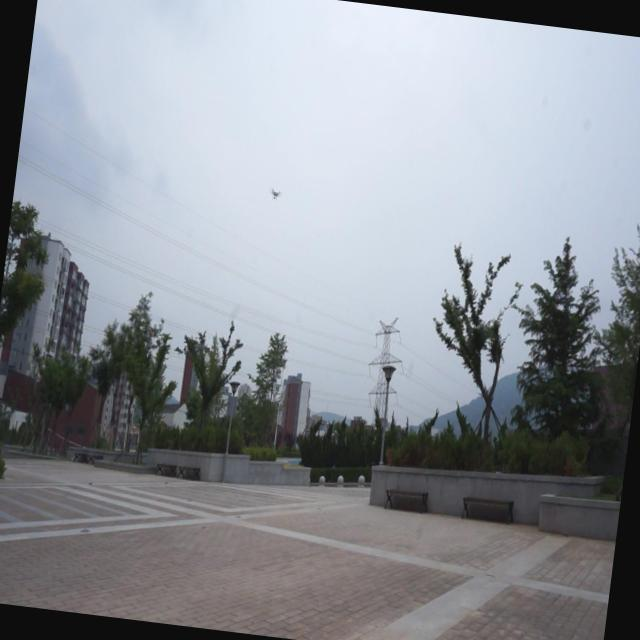drone: (268, 184, 284, 202)
